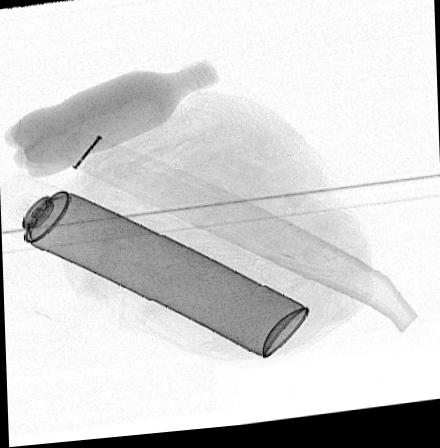Sprayer: (0, 175, 309, 362)
